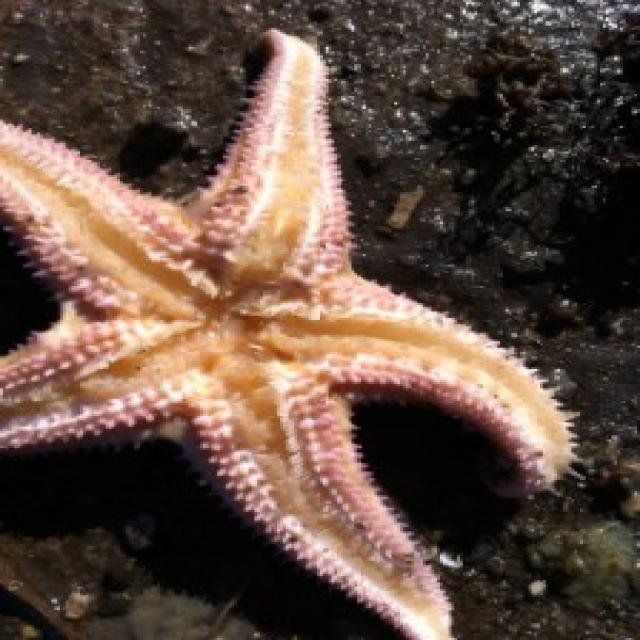Starfish: (0, 23, 588, 640)
